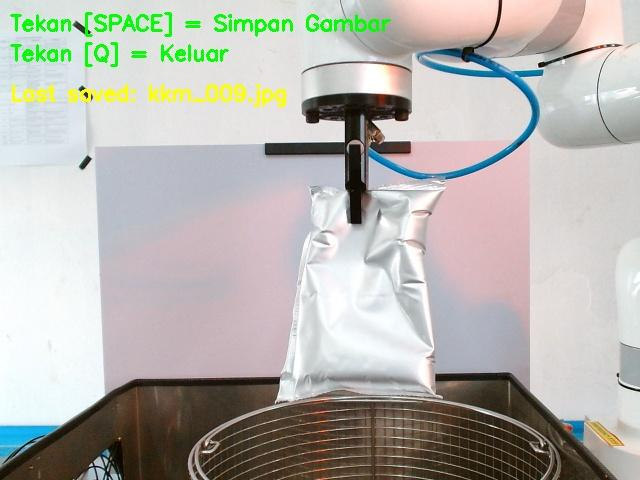retort-pouch: (270, 181, 445, 404)
